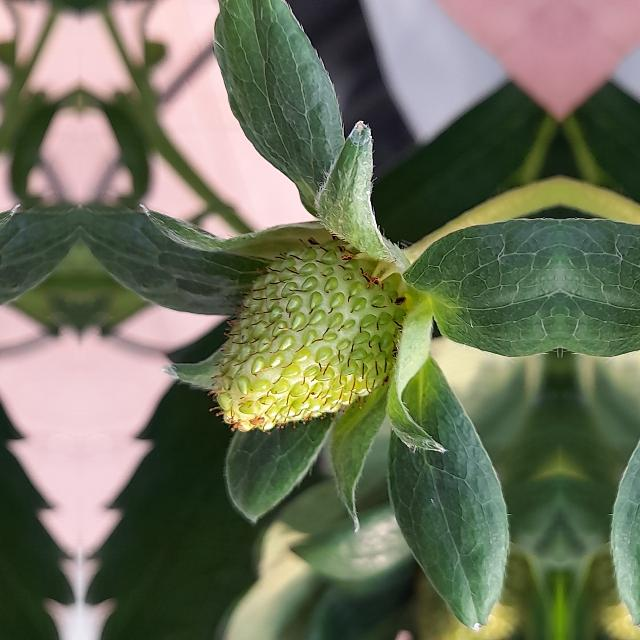Health_25: (205, 238, 403, 434)
